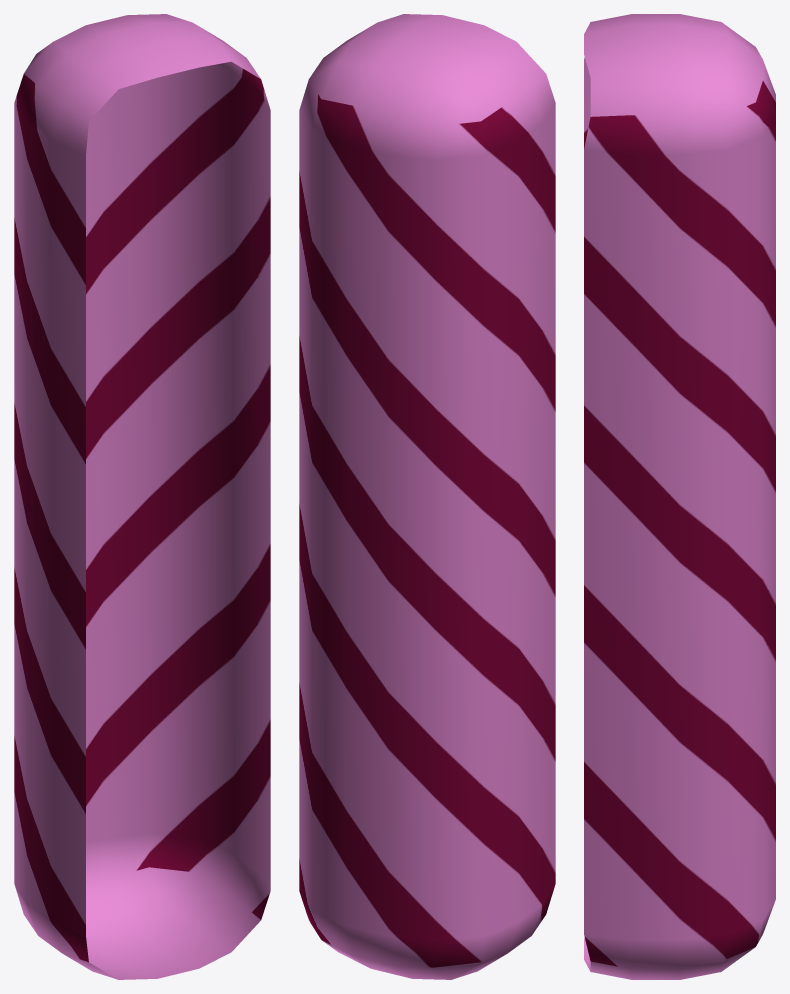
Rendered from Obj_piller_04.fbx.
3 views of the same model, side by side, from view 1: azimuth 30°, elevation 25°; view 2: azimuth 150°, elevation 25°; view 3: azimuth 270°, elevation 25° (orthographic).
Parts seen in each view (by area): view 1: piller_03; view 2: piller_03; view 3: piller_03.
Boxes of the visible parts, box(x1,y1,x2,y2) form: piller_03: box(14, 14, 270, 979); piller_03: box(299, 14, 555, 979); piller_03: box(584, 14, 775, 979).
Bounding box in the file's own units: 100 × 425 × 80.
